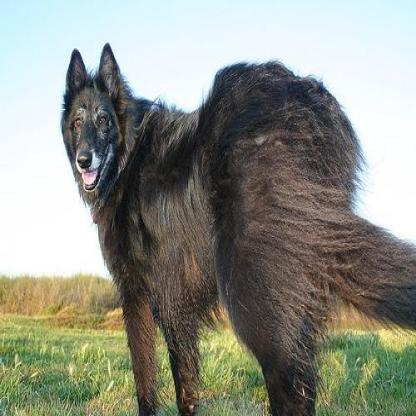groenendael: (48, 23, 414, 414)
